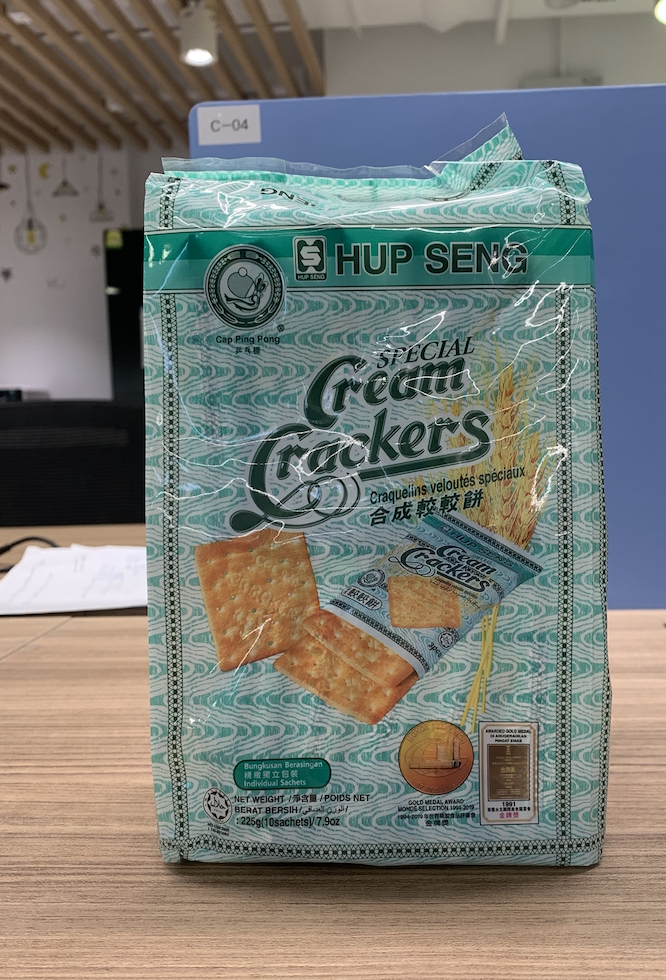halal: (207, 794, 231, 819)
